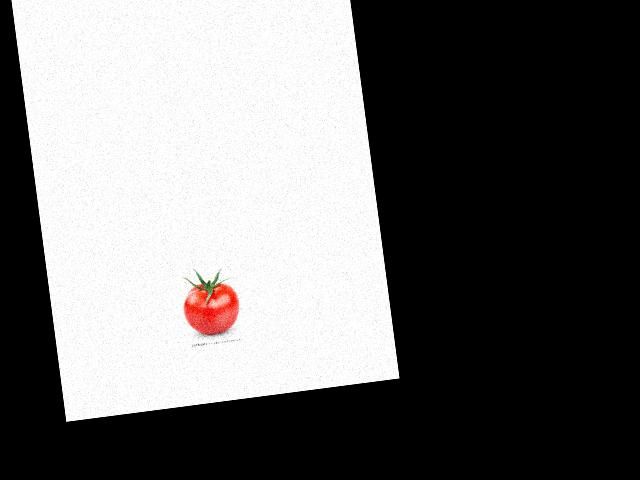tomato: (180, 279, 242, 337)
